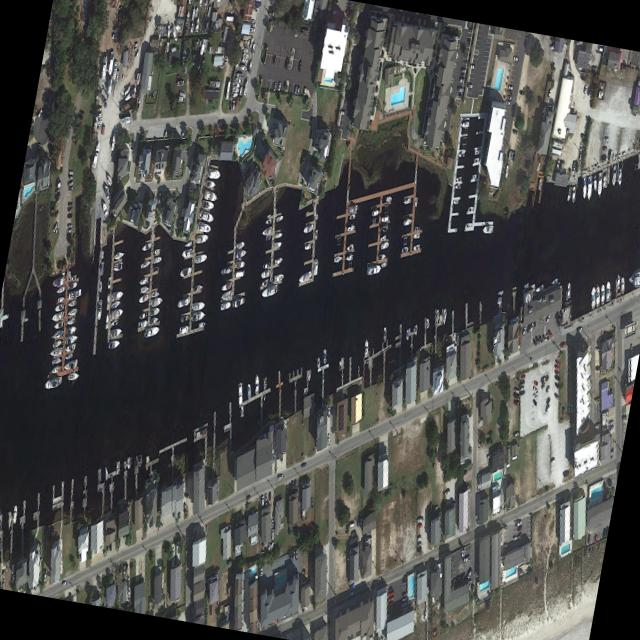ship: (43, 374, 61, 391), (90, 141, 100, 169), (261, 283, 277, 298), (143, 323, 158, 339), (202, 189, 218, 203), (365, 263, 380, 277), (196, 220, 211, 234), (198, 209, 213, 223), (99, 56, 106, 86), (123, 86, 135, 103), (297, 269, 310, 284), (149, 294, 162, 308), (190, 309, 204, 322), (106, 51, 113, 76), (99, 200, 108, 219), (231, 295, 244, 308), (63, 358, 76, 371), (169, 23, 177, 44), (179, 265, 191, 279), (193, 252, 205, 265), (585, 175, 591, 201), (219, 263, 231, 276), (194, 232, 207, 244), (176, 295, 188, 308), (110, 306, 122, 319), (51, 275, 64, 287), (200, 199, 214, 210), (206, 168, 220, 179), (191, 299, 203, 311), (111, 289, 123, 301), (109, 325, 120, 338), (610, 165, 616, 188), (198, 38, 205, 57), (102, 183, 109, 202), (180, 247, 192, 258), (51, 311, 63, 322), (65, 333, 76, 345), (596, 171, 601, 197), (111, 61, 117, 82), (589, 285, 594, 310), (347, 202, 358, 213), (113, 250, 124, 261), (107, 338, 118, 349), (49, 364, 60, 375), (220, 289, 230, 301), (259, 268, 269, 280), (122, 82, 130, 97), (49, 346, 61, 356), (119, 115, 132, 124), (106, 73, 111, 96), (302, 223, 312, 234), (253, 373, 258, 395), (192, 282, 202, 293), (138, 293, 148, 304), (149, 306, 159, 317), (51, 329, 62, 339), (66, 306, 76, 317), (96, 299, 101, 321), (481, 224, 493, 233), (235, 248, 245, 258), (234, 259, 244, 269), (220, 281, 230, 291), (272, 272, 282, 282), (261, 226, 271, 236), (139, 259, 149, 269), (178, 324, 188, 334), (11, 504, 16, 524), (53, 303, 63, 313), (65, 325, 75, 335), (64, 342, 74, 352), (112, 262, 122, 272), (204, 179, 215, 188), (141, 241, 150, 252), (104, 172, 111, 186), (193, 17, 199, 33), (242, 79, 248, 95), (565, 186, 571, 202), (581, 176, 585, 199), (595, 284, 599, 307), (220, 300, 229, 310), (272, 256, 281, 266), (202, 38, 208, 53), (246, 59, 252, 74), (110, 299, 119, 309), (137, 319, 146, 329), (150, 288, 159, 298), (152, 255, 161, 265), (55, 284, 64, 294), (67, 280, 76, 290), (65, 316, 74, 326), (605, 280, 609, 302), (67, 372, 78, 380), (312, 260, 317, 277), (173, 22, 180, 34), (379, 214, 388, 223), (139, 276, 148, 285), (139, 285, 148, 294), (53, 321, 62, 330), (66, 299, 75, 308), (402, 196, 410, 206), (592, 174, 596, 194), (617, 167, 621, 187), (363, 338, 367, 358), (6, 511, 10, 531), (51, 339, 61, 347), (50, 357, 60, 365), (534, 283, 542, 293), (570, 184, 574, 203), (102, 466, 107, 481), (345, 224, 354, 232), (379, 241, 387, 250), (402, 218, 411, 226), (235, 240, 243, 249), (273, 231, 281, 240), (274, 214, 282, 223), (441, 308, 445, 326), (138, 311, 146, 320), (179, 314, 188, 322), (273, 239, 280, 249), (600, 283, 603, 305), (377, 253, 385, 261), (333, 255, 341, 263), (261, 261, 269, 269), (238, 64, 246, 72), (434, 308, 438, 324), (246, 382, 250, 398), (183, 240, 191, 248), (411, 243, 419, 251), (303, 242, 310, 251), (99, 261, 103, 276), (248, 36, 253, 48), (616, 273, 619, 292), (460, 121, 468, 128), (345, 243, 352, 251), (371, 209, 378, 217), (231, 86, 239, 93), (165, 25, 169, 39), (150, 316, 157, 324), (152, 264, 159, 272), (197, 321, 204, 329), (56, 295, 63, 303), (157, 25, 161, 39), (463, 222, 471, 229), (504, 164, 508, 178), (620, 276, 623, 294), (105, 292, 108, 310), (601, 175, 605, 188), (190, 8, 194, 21), (315, 355, 319, 368), (424, 317, 428, 330), (250, 42, 254, 55), (114, 70, 118, 83), (204, 21, 208, 34), (566, 282, 569, 299), (104, 313, 107, 330), (382, 327, 385, 344), (457, 151, 464, 158), (344, 254, 351, 261), (241, 52, 248, 59), (400, 246, 407, 253), (152, 248, 159, 255), (64, 353, 71, 360), (229, 91, 236, 98), (240, 58, 247, 65), (550, 278, 557, 285), (472, 157, 479, 164), (231, 82, 239, 88), (185, 11, 189, 23), (69, 273, 75, 281), (264, 233, 270, 241), (313, 228, 317, 240), (379, 234, 385, 242), (206, 5, 210, 17), (537, 178, 541, 190), (571, 161, 575, 173), (322, 349, 325, 364), (115, 459, 118, 474), (137, 453, 140, 468), (98, 279, 101, 294), (200, 53, 204, 64), (348, 213, 354, 220), (466, 206, 473, 212), (252, 7, 259, 13), (110, 320, 117, 326), (413, 225, 419, 232), (412, 233, 419, 239), (307, 368, 310, 382), (126, 456, 129, 470), (413, 323, 416, 337), (93, 120, 100, 126), (93, 124, 100, 130), (106, 276, 109, 289), (165, 41, 168, 53), (239, 405, 242, 417), (264, 218, 270, 224), (380, 262, 386, 268), (337, 359, 340, 371), (405, 328, 408, 340), (160, 25, 163, 37), (454, 183, 460, 189), (452, 198, 458, 204), (473, 149, 479, 155), (235, 73, 242, 78), (233, 78, 240, 83), (384, 196, 391, 201), (455, 175, 460, 182), (94, 115, 101, 120), (413, 197, 416, 208), (189, 22, 192, 33), (191, 54, 194, 65), (242, 48, 248, 53), (231, 100, 234, 110), (197, 0, 201, 7), (127, 585, 129, 599), (471, 173, 475, 180), (202, 0, 206, 5), (67, 269, 69, 279), (235, 99, 237, 108), (187, 0, 190, 5), (210, 0, 212, 4), (254, 0, 259, 1)
small-vehicle: (465, 567, 471, 579), (462, 554, 469, 563), (554, 159, 559, 171), (51, 222, 56, 233), (36, 108, 41, 118), (534, 335, 539, 345), (528, 322, 533, 332), (547, 329, 552, 339), (578, 132, 584, 140), (283, 56, 287, 68), (575, 326, 581, 334), (537, 334, 542, 343), (554, 358, 559, 367), (544, 405, 549, 414), (531, 398, 536, 407), (271, 54, 275, 65), (521, 325, 525, 336), (511, 150, 515, 161), (53, 192, 59, 199), (590, 65, 596, 72), (515, 520, 521, 527), (339, 109, 345, 116), (54, 177, 59, 185), (53, 198, 58, 206), (544, 396, 549, 404), (585, 534, 589, 544), (459, 549, 463, 559), (460, 572, 464, 582), (444, 488, 449, 496), (531, 339, 536, 347), (553, 370, 558, 378), (506, 149, 510, 159), (606, 150, 610, 160), (295, 85, 299, 95), (297, 59, 301, 69), (134, 49, 138, 59), (128, 144, 133, 152), (179, 128, 183, 138), (545, 314, 549, 324), (532, 392, 537, 400), (450, 578, 454, 587), (512, 387, 518, 393), (387, 591, 393, 597), (386, 605, 392, 611), (542, 334, 546, 343), (540, 382, 544, 391), (525, 323, 529, 332), (599, 154, 605, 160), (170, 547, 173, 559), (76, 113, 82, 119), (157, 192, 160, 204), (593, 423, 599, 429), (546, 89, 550, 98), (53, 187, 58, 194), (348, 522, 353, 529), (401, 596, 406, 603), (416, 516, 421, 523), (553, 364, 558, 371), (553, 374, 558, 381), (511, 535, 516, 542), (519, 378, 524, 385), (512, 393, 519, 398), (593, 366, 600, 371), (277, 474, 282, 481), (65, 228, 70, 235), (608, 424, 613, 431), (532, 387, 537, 394), (326, 433, 329, 444), (309, 497, 312, 508), (509, 149, 512, 160), (270, 529, 273, 540), (260, 496, 263, 507), (569, 403, 572, 414), (566, 402, 569, 413), (53, 210, 57, 218), (545, 385, 549, 393), (67, 169, 72, 175), (67, 186, 72, 192), (347, 591, 352, 597), (326, 407, 329, 417), (400, 601, 405, 607), (387, 586, 392, 592), (387, 597, 392, 603), (387, 601, 392, 607), (415, 547, 420, 553), (485, 438, 491, 443), (248, 27, 254, 32), (241, 35, 247, 40), (182, 492, 187, 498), (1, 578, 4, 588), (276, 81, 279, 91), (293, 84, 296, 94), (79, 109, 84, 115), (136, 100, 139, 110), (600, 146, 606, 151), (559, 341, 564, 347), (596, 47, 602, 52), (458, 72, 464, 77), (455, 87, 461, 92), (507, 84, 512, 90), (553, 392, 557, 399), (517, 532, 521, 539), (519, 390, 523, 397), (162, 130, 166, 137), (270, 519, 273, 528), (272, 82, 275, 91), (223, 57, 226, 66), (628, 344, 631, 353), (583, 85, 586, 94), (350, 531, 355, 536), (520, 374, 525, 379), (485, 454, 490, 459), (518, 386, 523, 391), (513, 400, 518, 405), (331, 10, 336, 15), (608, 420, 613, 425), (594, 346, 599, 351), (562, 473, 567, 478), (469, 64, 474, 69), (457, 78, 462, 83), (512, 55, 517, 60), (511, 130, 516, 135), (416, 535, 420, 541), (359, 517, 361, 529), (401, 592, 405, 598), (545, 333, 548, 341), (553, 382, 557, 388), (502, 543, 506, 549), (516, 525, 520, 531), (249, 23, 255, 27), (193, 529, 196, 537), (160, 515, 162, 527), (300, 463, 304, 469), (245, 494, 249, 500), (61, 580, 65, 586), (43, 570, 45, 582), (513, 431, 517, 437), (333, 0, 337, 6), (602, 137, 608, 141), (575, 41, 579, 47), (505, 99, 509, 105), (294, 550, 296, 561), (124, 562, 126, 573), (259, 566, 261, 577), (67, 181, 71, 186), (66, 207, 70, 212), (66, 214, 71, 218), (208, 605, 210, 615), (292, 550, 294, 560), (66, 224, 71, 228), (581, 342, 583, 352), (550, 459, 554, 464), (533, 381, 538, 385), (549, 45, 553, 50), (177, 509, 179, 518), (289, 552, 291, 561), (293, 480, 295, 489), (268, 491, 270, 500), (285, 485, 287, 494), (416, 524, 420, 528), (416, 543, 420, 547), (122, 565, 124, 573), (467, 84, 471, 88), (506, 90, 510, 94), (506, 95, 510, 99), (459, 69, 464, 72), (518, 91, 523, 94), (594, 535, 596, 542), (432, 461, 434, 468), (264, 494, 265, 504), (357, 519, 358, 528), (291, 481, 292, 490)
